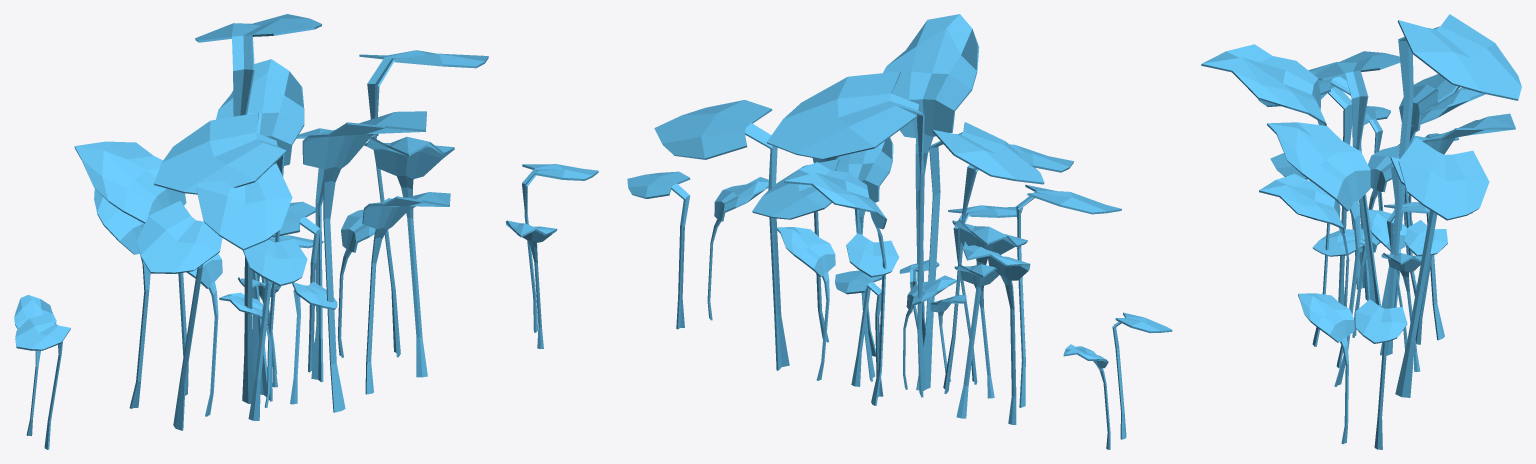
File: st3_plant4.fbx
The picture shows the model from 3 angles, left to right: view 1: azimuth 30°, elevation 25°; view 2: azimuth 150°, elevation 25°; view 3: azimuth 270°, elevation 25°; orthographic projection. The views are drawn at different scales.
Parts seen in each view (by area): view 1: stage3_map_object_leaves_4_medium_; view 2: stage3_map_object_leaves_4_medium_; view 3: stage3_map_object_leaves_4_medium_.
Part boxes in pixels (x1,y1,x2,y2): stage3_map_object_leaves_4_medium_: [14, 14, 598, 449]; stage3_map_object_leaves_4_medium_: [627, 14, 1172, 449]; stage3_map_object_leaves_4_medium_: [1201, 14, 1521, 449].
Bounding box in the file's own units: 1843 × 1057 × 958.
